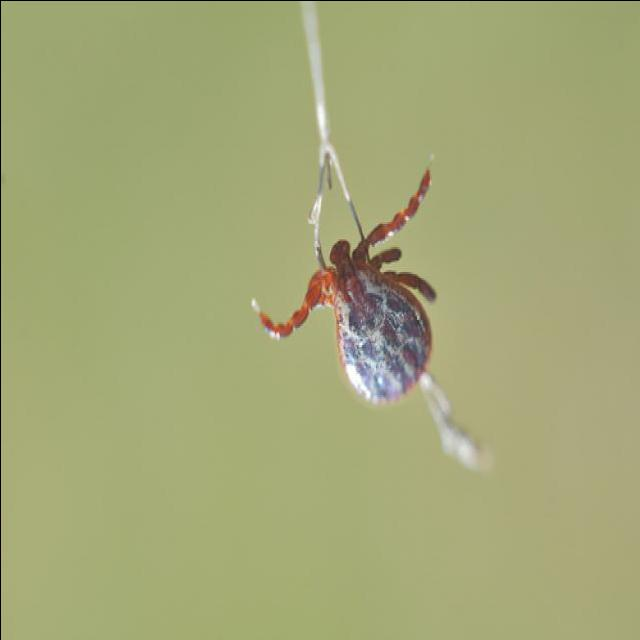Dermacentor Reticulatus-M: (250, 165, 435, 404)
